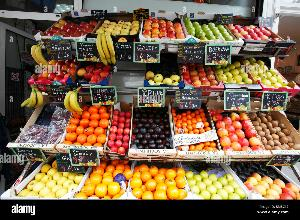apple: (16, 158, 88, 200), (209, 107, 261, 156), (238, 164, 300, 200), (184, 166, 246, 200), (247, 48, 293, 92), (181, 15, 237, 43), (229, 16, 281, 44), (44, 16, 98, 40), (178, 60, 220, 90), (143, 15, 185, 43), (144, 62, 182, 90), (96, 15, 140, 37), (216, 56, 248, 86), (75, 60, 111, 86), (39, 60, 77, 82)
banana: (94, 26, 116, 66)
kiwi: (250, 107, 298, 153)
orange: (173, 104, 217, 156), (132, 160, 186, 202), (85, 158, 131, 202), (68, 99, 108, 149)
peach: (108, 101, 130, 155)
plum: (132, 102, 174, 154)
radish: (19, 101, 73, 147)
